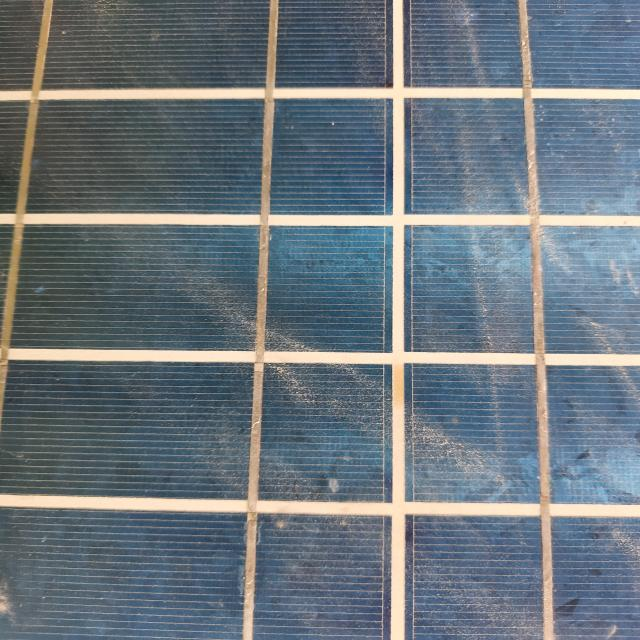dust-solar-panel: (0, 0, 638, 640)
